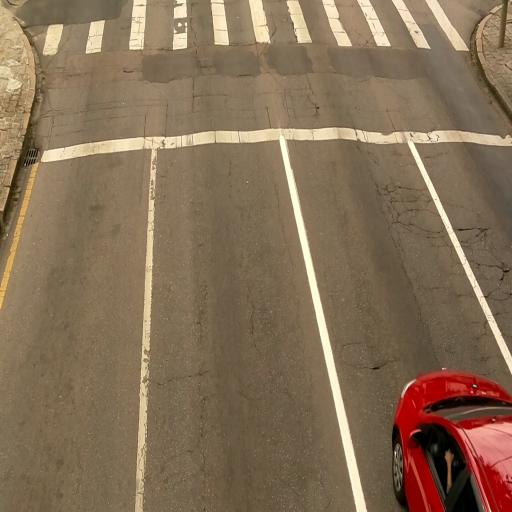car: (391, 372, 510, 512)
